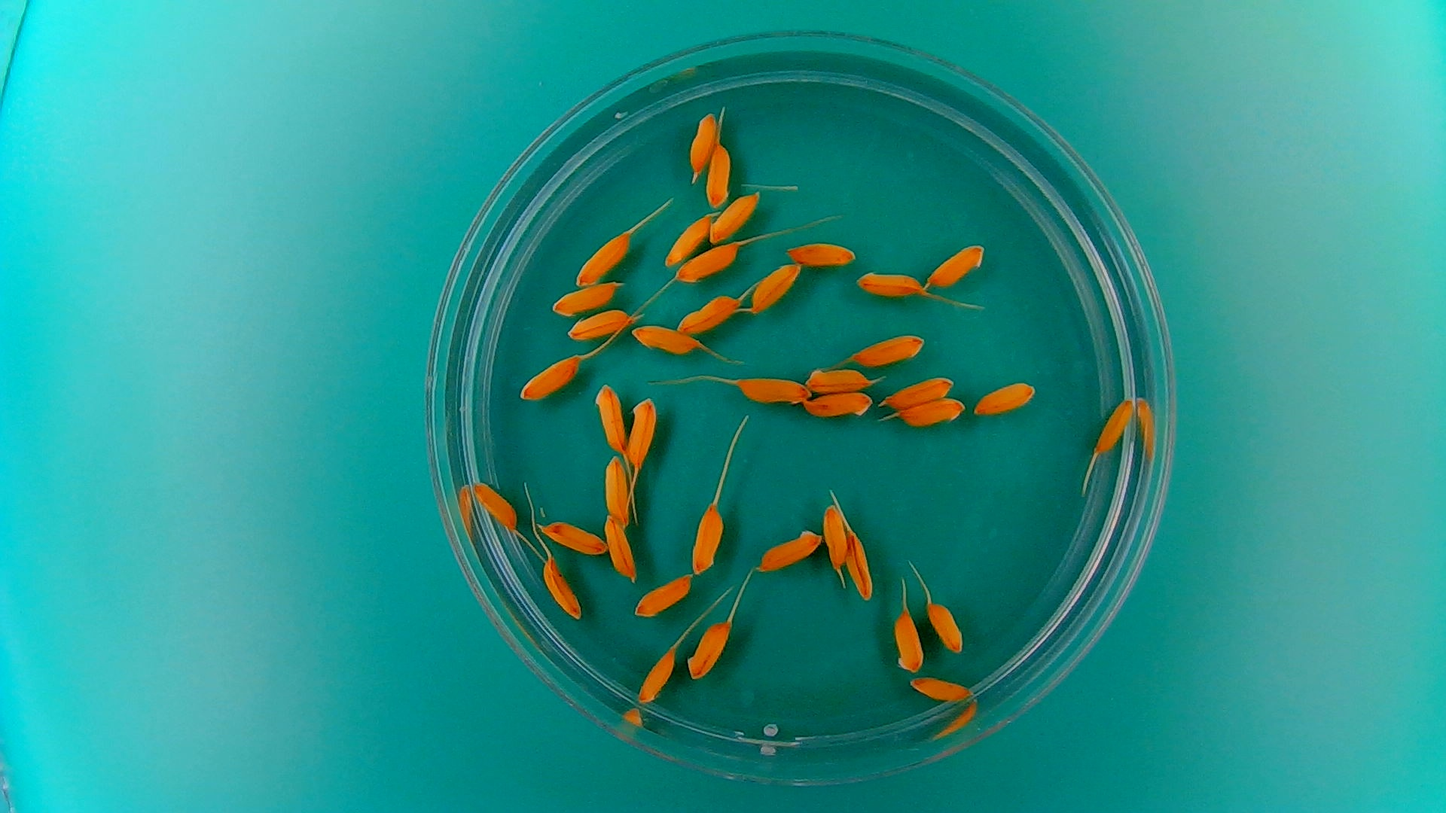no: (572, 229, 633, 287), (516, 352, 584, 404), (755, 526, 824, 574), (540, 553, 584, 623), (685, 619, 733, 683), (927, 241, 988, 291), (632, 571, 694, 620), (748, 260, 803, 315), (469, 477, 521, 534), (676, 239, 741, 284), (675, 291, 743, 334), (548, 279, 621, 319), (709, 190, 761, 246), (848, 330, 926, 367), (731, 373, 810, 409), (663, 211, 712, 269), (688, 501, 725, 577), (972, 378, 1039, 419), (624, 393, 659, 471), (538, 517, 608, 556), (880, 373, 954, 409), (602, 513, 640, 583), (636, 644, 678, 707), (1093, 395, 1136, 456), (630, 322, 702, 358), (593, 379, 627, 454), (890, 607, 926, 675), (566, 306, 633, 342), (801, 389, 874, 422), (844, 528, 877, 601), (687, 108, 721, 178), (925, 598, 966, 655), (906, 672, 975, 705), (601, 454, 631, 527), (804, 363, 872, 394), (854, 268, 924, 298), (784, 239, 856, 267), (822, 501, 850, 570), (705, 142, 732, 209)
